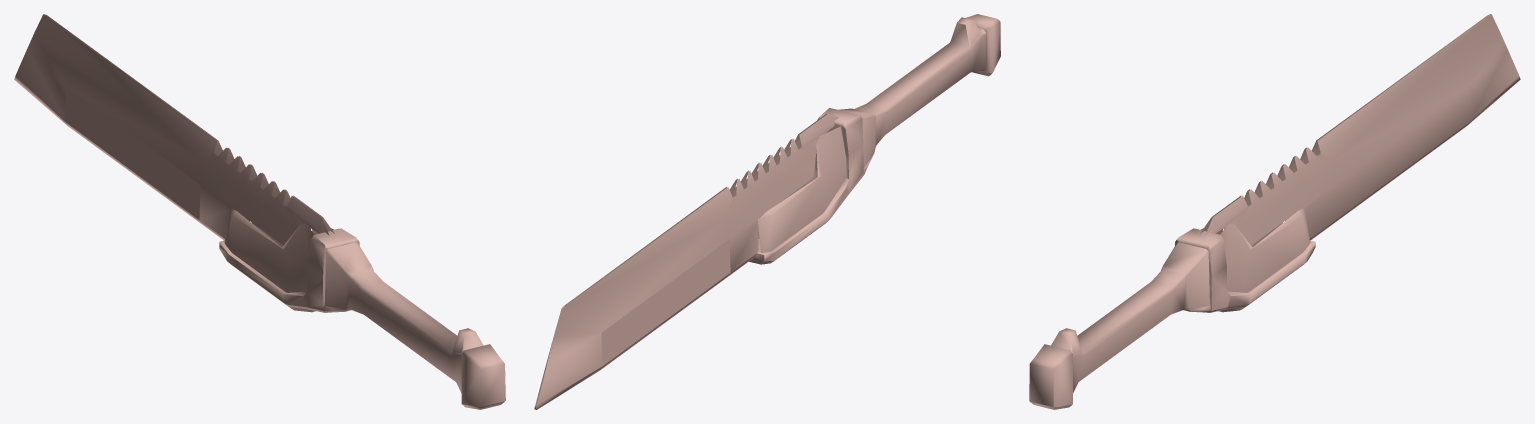
The model's file is Ronin_Sword LOD2.fbx.
3 renders of one model, left to right at view 1: azimuth 30°, elevation 25°; view 2: azimuth 150°, elevation 25°; view 3: azimuth 330°, elevation 25°, orthographic. The views are drawn at different scales.
Parts seen in each view (by area): view 1: w_titan_sword_lod0_lod2; view 2: w_titan_sword_lod0_lod2; view 3: w_titan_sword_lod0_lod2.
Part boxes in pixels (x1,y1,x2,y2): w_titan_sword_lod0_lod2: (14, 14, 505, 409); w_titan_sword_lod0_lod2: (534, 14, 1000, 409); w_titan_sword_lod0_lod2: (1029, 14, 1520, 409).
Size of the model in its own units: 838 by 2052 by 17803.
